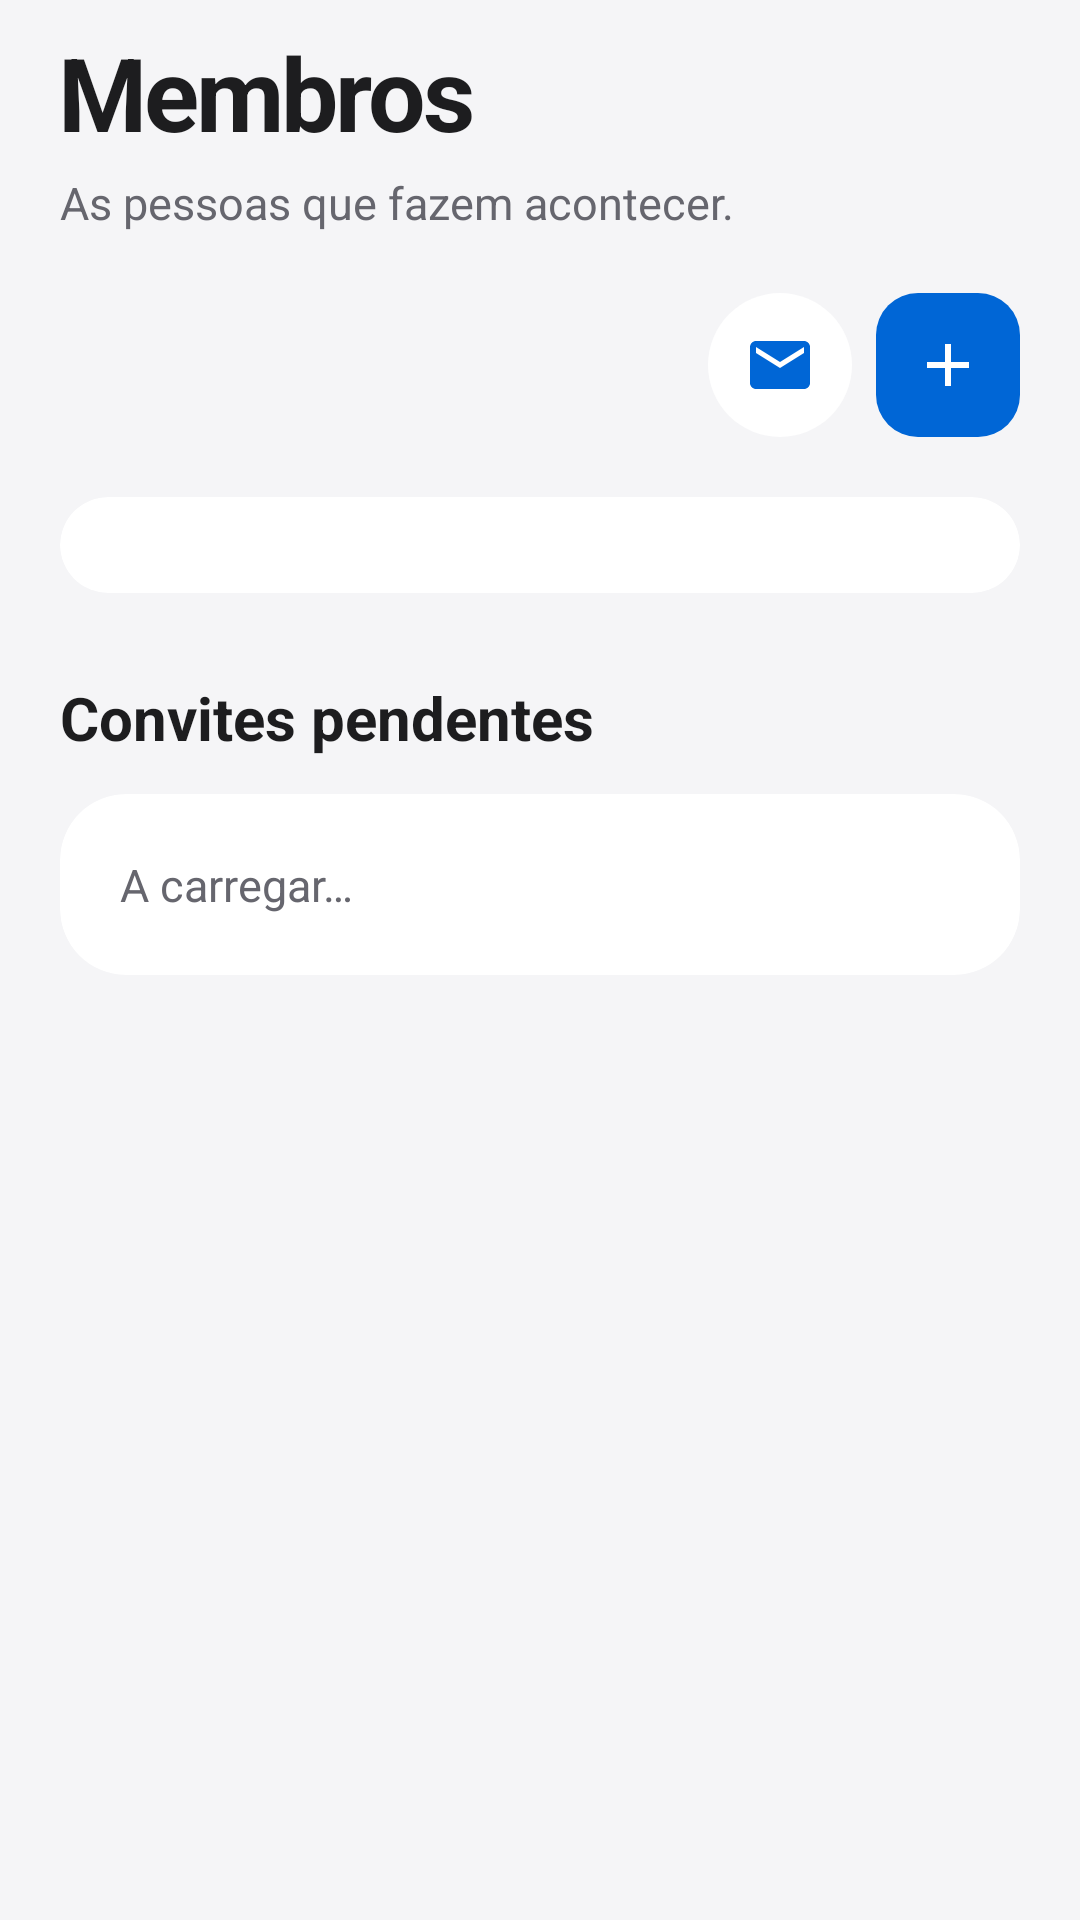

Icons on this 1080px x 1920px Android screen, each with the point to tap as (x=x, y=y):
Adicionar membro: (x=948, y=365)
Convidar por email: (x=780, y=365)
